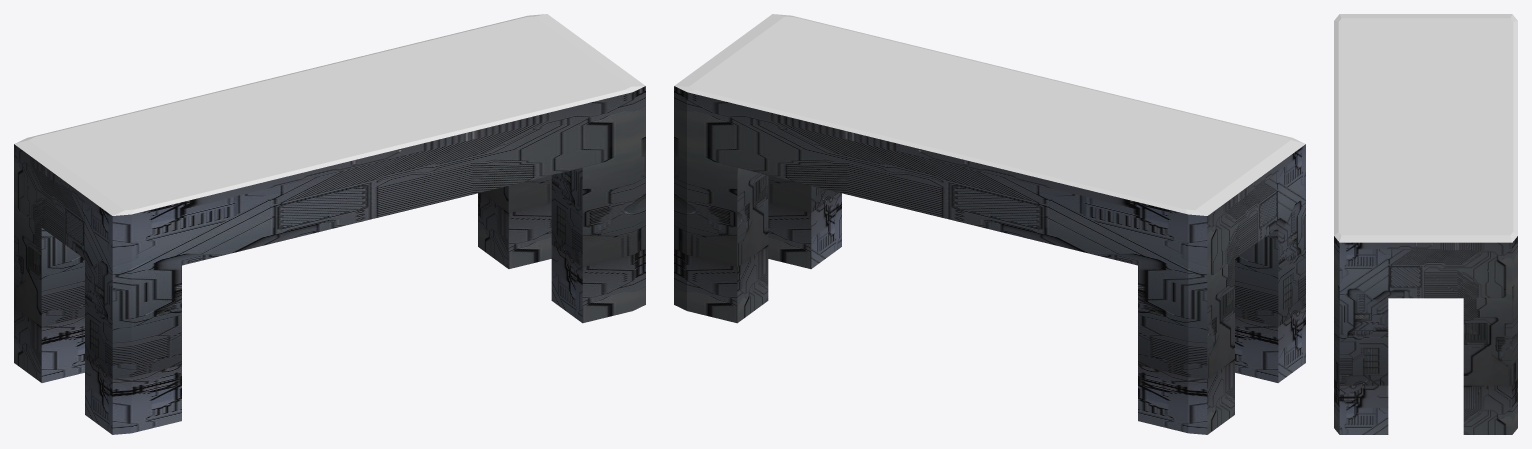
File: table1.fbx
3 views of the same model, side by side, from view 1: azimuth 30°, elevation 25°; view 2: azimuth 150°, elevation 25°; view 3: azimuth 270°, elevation 25° (orthographic). The views are drawn at different scales.
Visible parts, largest first — view 1: Cube.002; view 2: Cube.002; view 3: Cube.002.
Part boxes in pixels (bbox=[...]): Cube.002: bbox=[14, 14, 645, 434]; Cube.002: bbox=[674, 14, 1305, 434]; Cube.002: bbox=[1334, 14, 1517, 434].
Bounding box in the file's own units: 589 × 233 × 200.
2 materials, 1 textured.
